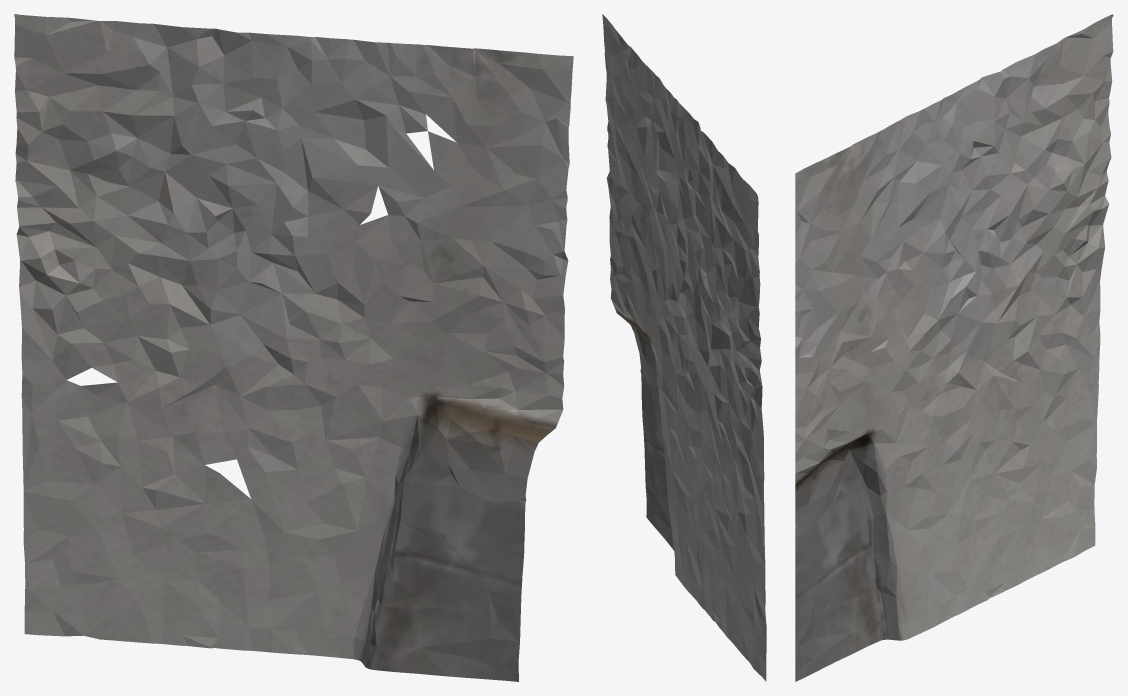
The picture shows the model from 3 angles, left to right: view 1: azimuth 30°, elevation 25°; view 2: azimuth 150°, elevation 25°; view 3: azimuth 270°, elevation 25°; orthographic projection. The views are drawn at different scales.
Bounding box in the file's own units: 0.5386 × 0.8374 × 0.4539.
2 materials, 2 textured.
